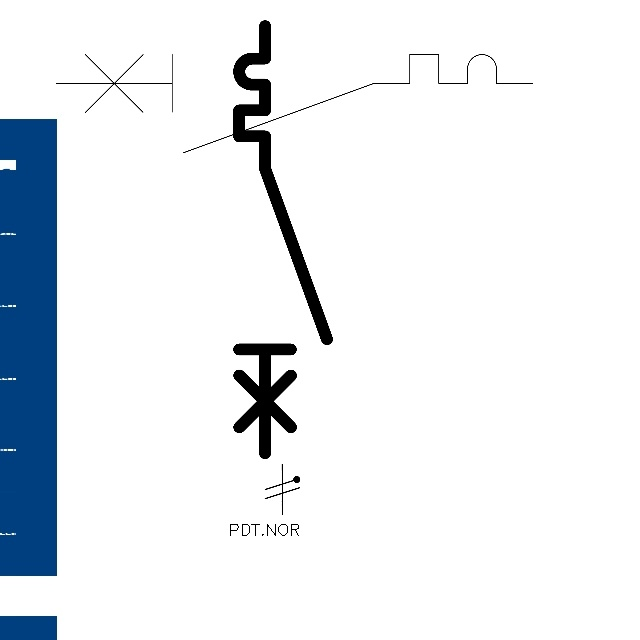interruptor_termomagnetico: (44, 42, 545, 164), (228, 15, 338, 464)
